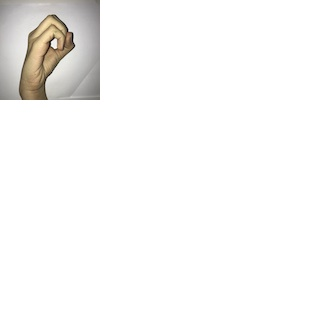rock: (14, 8, 77, 89)
